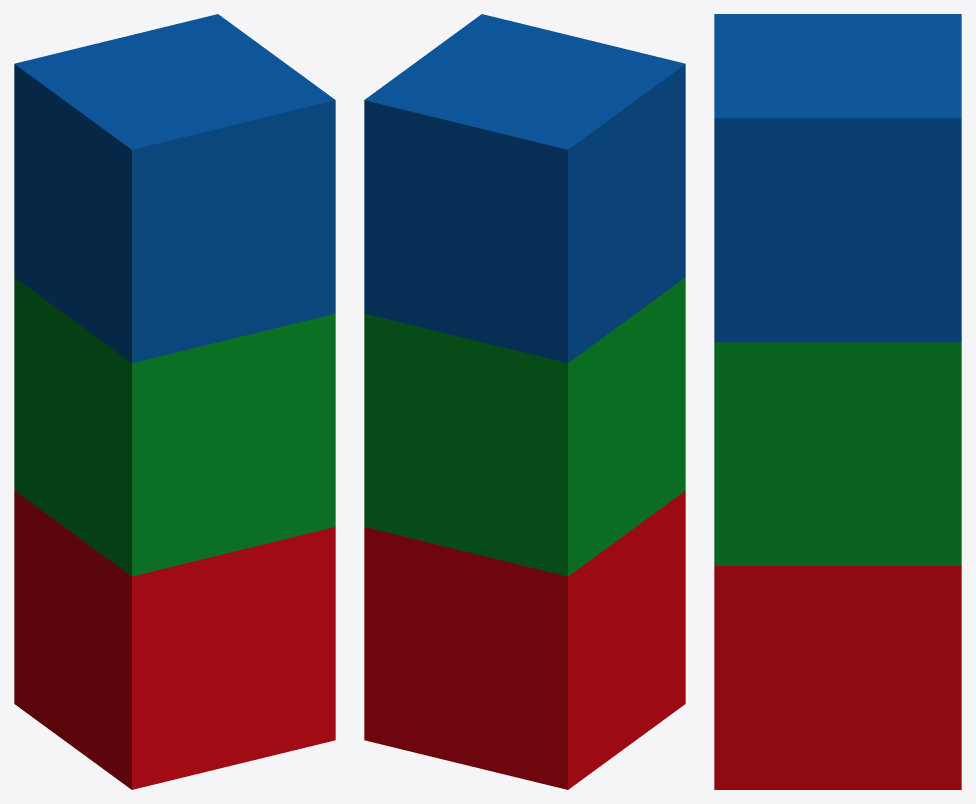
The model's file is AnimatedCubes.obj.
3 renders of one model, left to right at view 1: azimuth 30°, elevation 25°; view 2: azimuth 150°, elevation 25°; view 3: azimuth 270°, elevation 25°, orthographic. The views are drawn at different scales.
Visible parts, largest first — view 1: Cube0 Cube1 Cube2, Cube0, Cube0 Cube1; view 2: Cube0 Cube1 Cube2, Cube0, Cube0 Cube1; view 3: Cube0 Cube1 Cube2, Cube0, Cube0 Cube1.
Part boxes in pixels (<box>): Cube0 Cube1 Cube2: <box>14,14,335,362</box>; Cube0: <box>14,491,335,789</box>; Cube0 Cube1: <box>14,277,335,576</box>; Cube0 Cube1 Cube2: <box>364,14,685,362</box>; Cube0: <box>364,491,685,789</box>; Cube0 Cube1: <box>364,277,685,576</box>; Cube0 Cube1 Cube2: <box>714,14,961,342</box>; Cube0: <box>714,566,961,789</box>; Cube0 Cube1: <box>714,342,961,565</box>.
Size of the model in its own units: 1 by 3 by 1.
